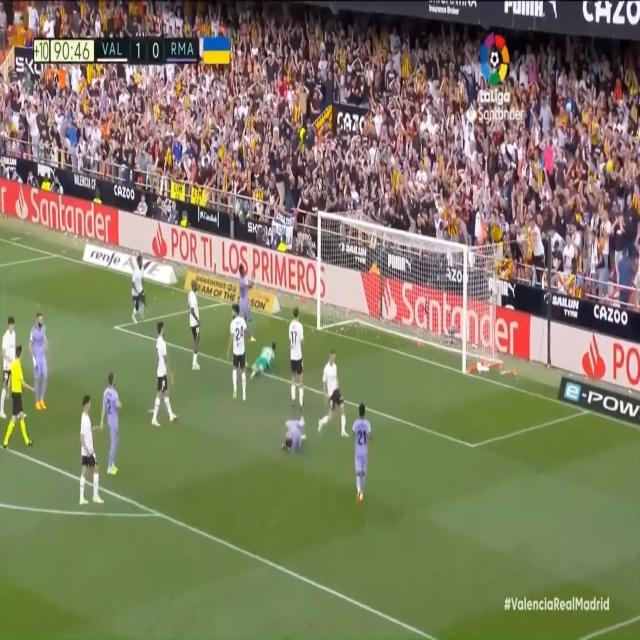goalkeeper: (247, 342, 279, 387)
player: (151, 319, 179, 428), (79, 393, 105, 509), (317, 347, 348, 437), (100, 372, 126, 476), (352, 400, 376, 509), (225, 304, 249, 403), (289, 303, 309, 411), (32, 310, 52, 417), (0, 316, 17, 425), (188, 277, 204, 376), (236, 260, 255, 343), (279, 415, 310, 464), (131, 254, 145, 326)
referee: (3, 341, 31, 451)
